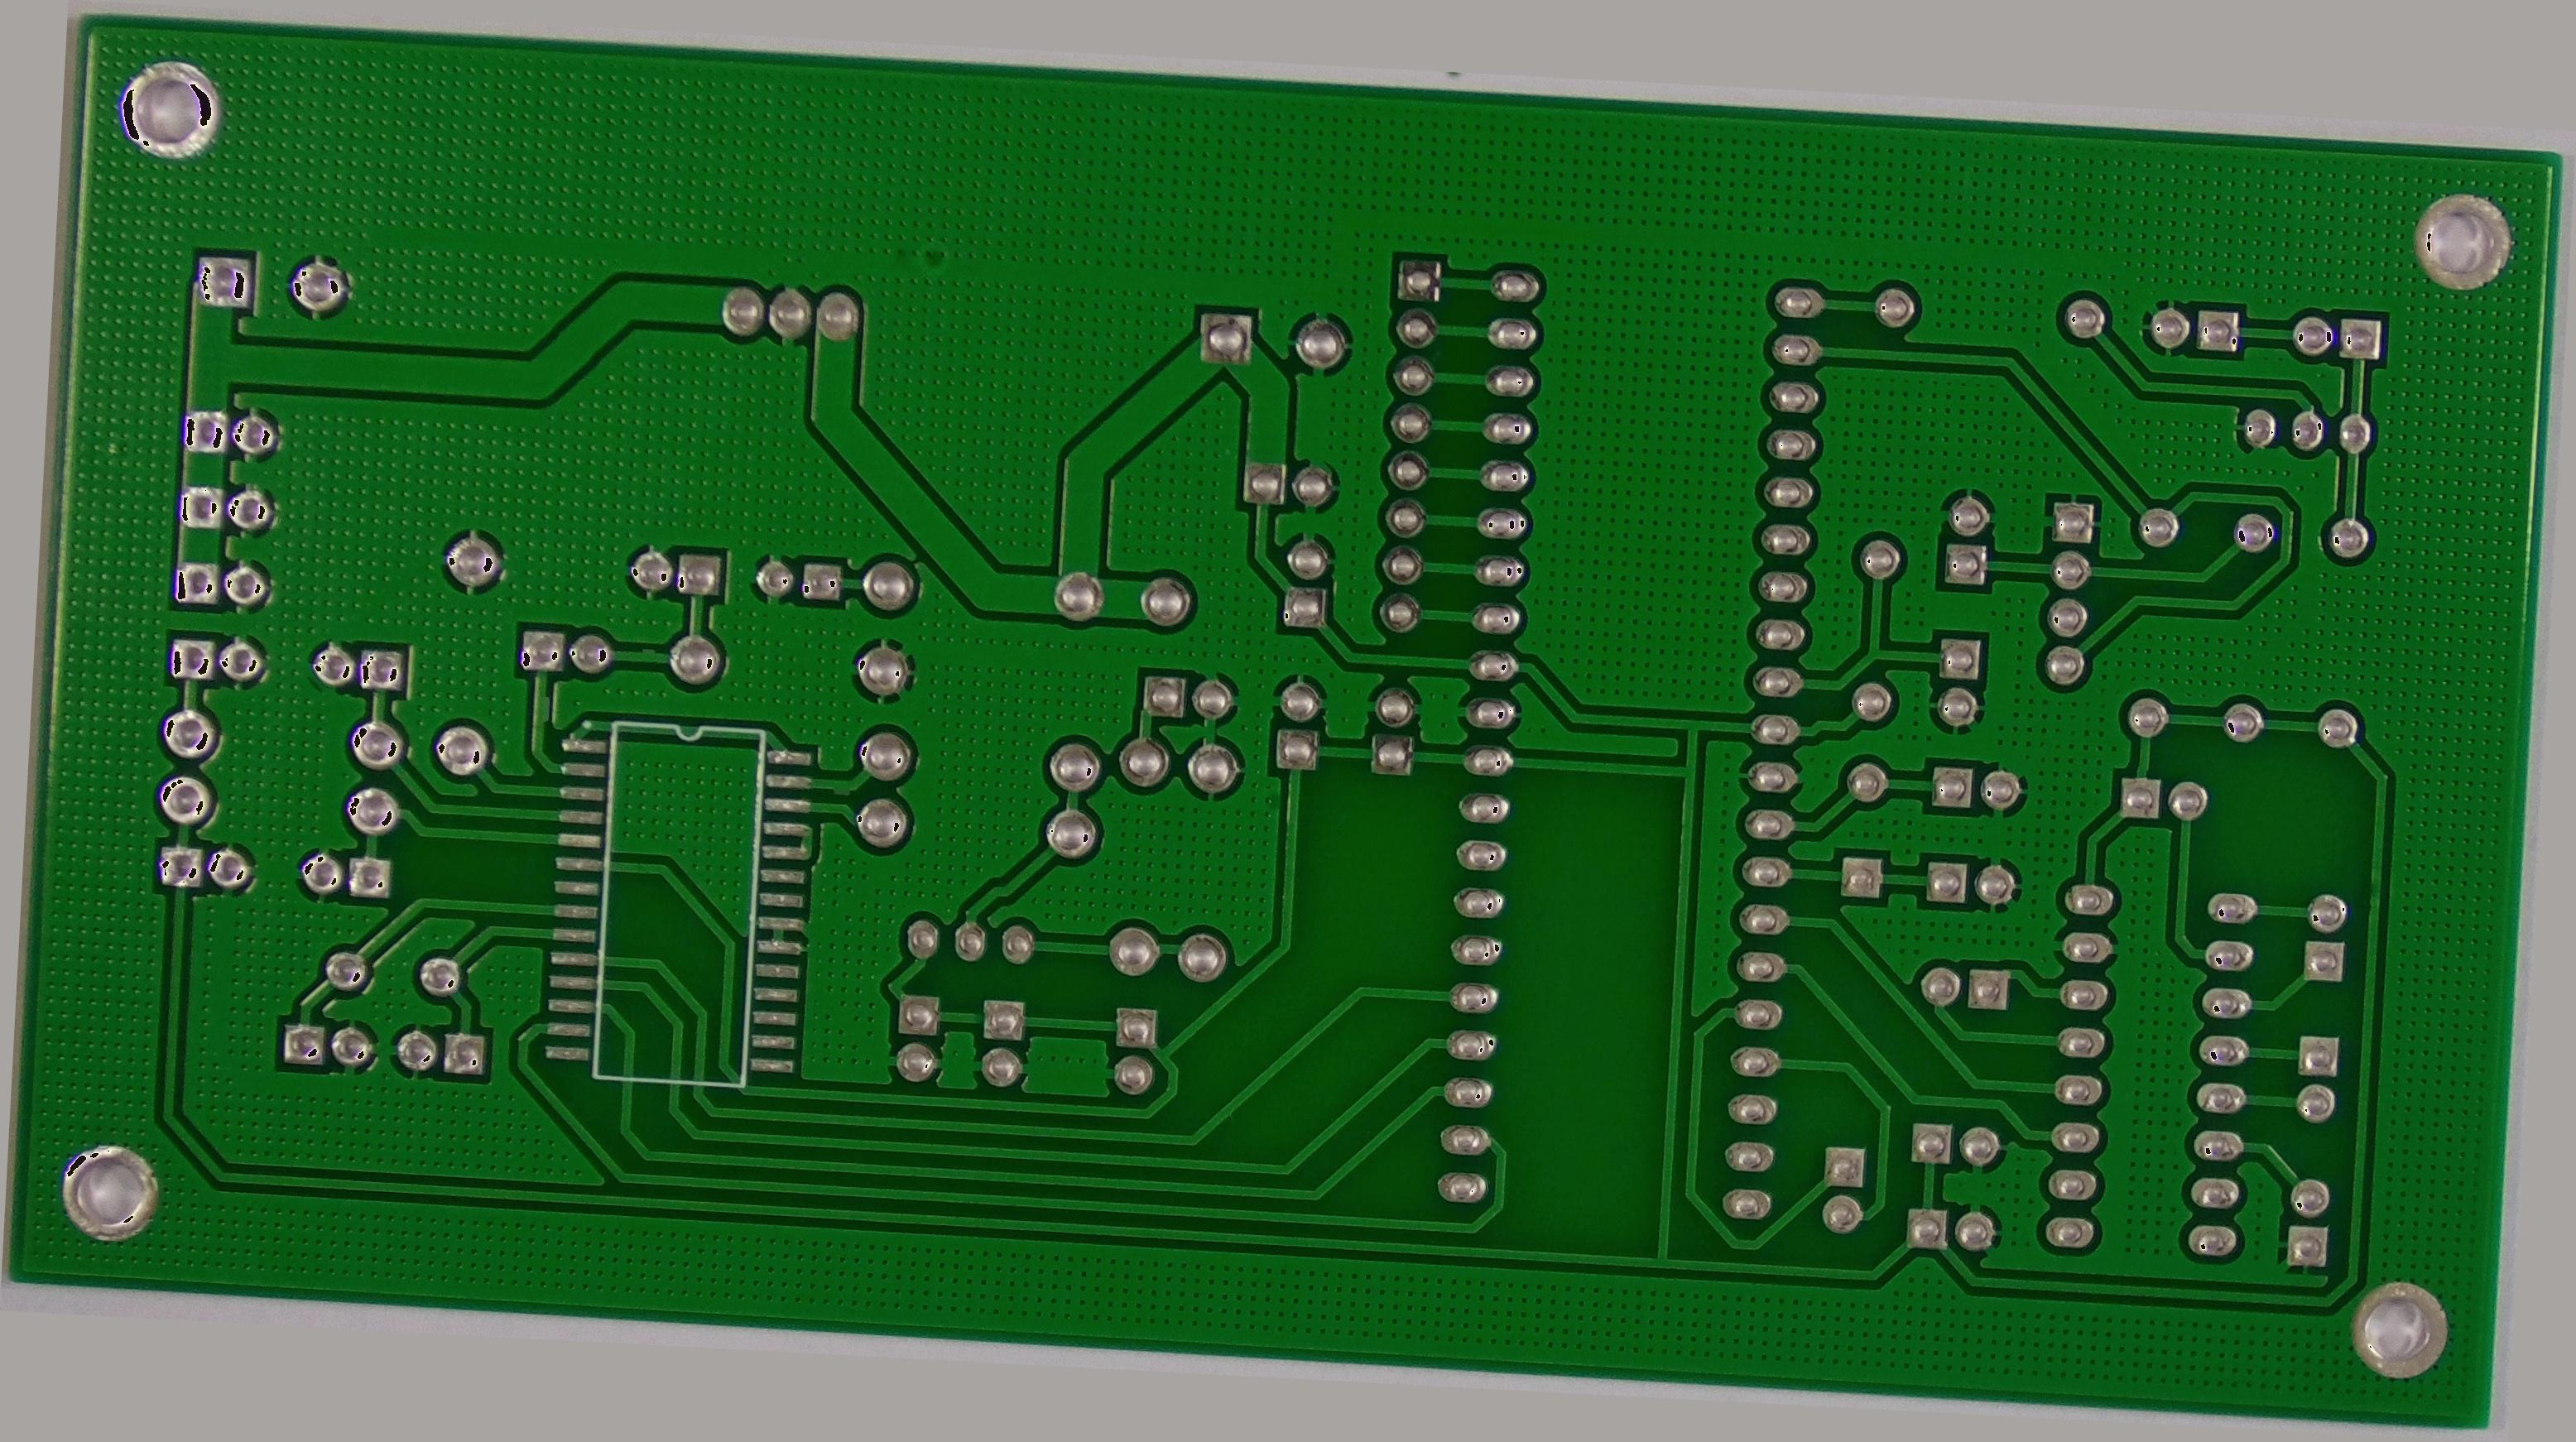spur: (525, 686, 557, 725), (823, 773, 860, 805), (630, 642, 669, 669)
